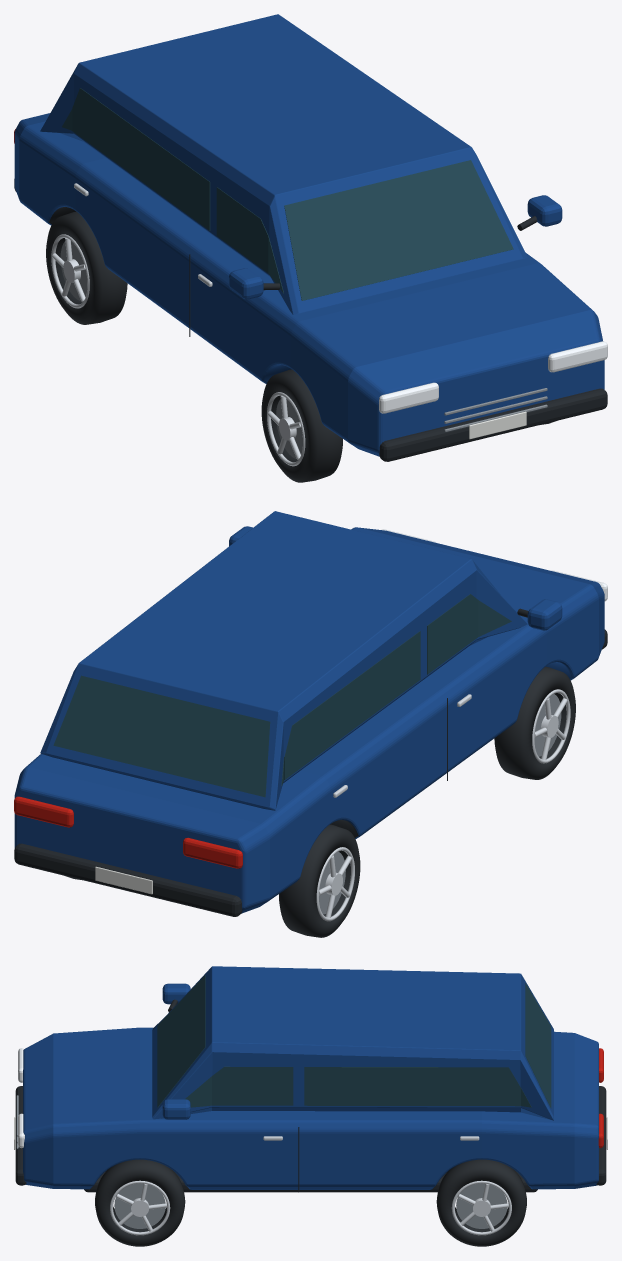
Rendered from car.glb.
The picture shows the model from 3 angles, top to bottom: view 1: azimuth 30°, elevation 25°; view 2: azimuth 150°, elevation 25°; view 3: azimuth 270°, elevation 25°; orthographic projection. The views are drawn at different scales.
Visible parts, largest first — view 1: Coachwork lower body, Cab and roof, Front windscreen, Rear side glass, Front_tire, Rear_tire, Bumper, Front side glass.001, Headlamp, Headlamp.001, Mirror shell, Blank registration panel (+3 smaller); view 2: Coachwork lower body, Cab and roof, Rear windscreen, Rear side glass, Rear_tire, Front_tire, Bumper.001, Front side glass.001, Tail lamp.001, Tail lamp, Mirror shell, Blank registration panel.001 (+5 smaller); view 3: Coachwork lower body, Cab and roof, Rear side glass.002, Rear_tire.001, Front_tire.001, Front windscreen, Front side glass.003, Rear windscreen, Front_brake.001, Rear_brake.001, Underbody, Bumper.001 (+6 smaller).
Part boxes in pixels (<box>): Coachwork lower body: <box>14,113,604,456</box>; Cab and roof: <box>40,14,527,314</box>; Front windscreen: <box>284,160,513,300</box>; Rear side glass: <box>72,88,210,230</box>; Front_tire: <box>261,369,342,482</box>; Rear_tire: <box>46,211,127,324</box>; Bumper: <box>379,388,607,461</box>; Front side glass.001: <box>216,187,268,272</box>; Headlamp: <box>379,382,438,413</box>; Headlamp.001: <box>548,341,607,372</box>; Mirror shell: <box>229,268,263,299</box>; Blank registration panel: <box>469,411,526,439</box>; Coachwork lower body: <box>14,527,604,913</box>; Cab and roof: <box>40,511,527,810</box>; Rear windscreen: <box>53,675,270,797</box>; Rear side glass: <box>284,631,420,779</box>; Rear_tire: <box>279,824,360,937</box>; Front_tire: <box>494,666,575,779</box>; Bumper.001: <box>14,843,242,916</box>; Front side glass.001: <box>427,594,478,674</box>; Tail lamp.001: <box>14,796,73,827</box>; Tail lamp: <box>183,837,242,868</box>; Mirror shell: <box>527,599,562,630</box>; Blank registration panel.001: <box>95,866,152,894</box>; Coachwork lower body: <box>23,1027,598,1189</box>; Cab and roof: <box>152,966,553,1120</box>; Rear side glass.002: <box>304,1067,520,1106</box>; Rear_tire.001: <box>436,1159,526,1246</box>; Front_tire.001: <box>95,1159,185,1246</box>; Front windscreen: <box>157,975,205,1107</box>; Front side glass.003: <box>212,1066,293,1105</box>; Rear windscreen: <box>525,983,551,1108</box>; Front_brake.001: <box>114,1183,165,1228</box>; Rear_brake.001: <box>456,1183,507,1228</box>; Underbody: <box>84,1170,537,1192</box>; Bumper.001: <box>596,1086,606,1185</box>.
Size of the model in its own units: 2.4 by 1.75 by 4.87.
